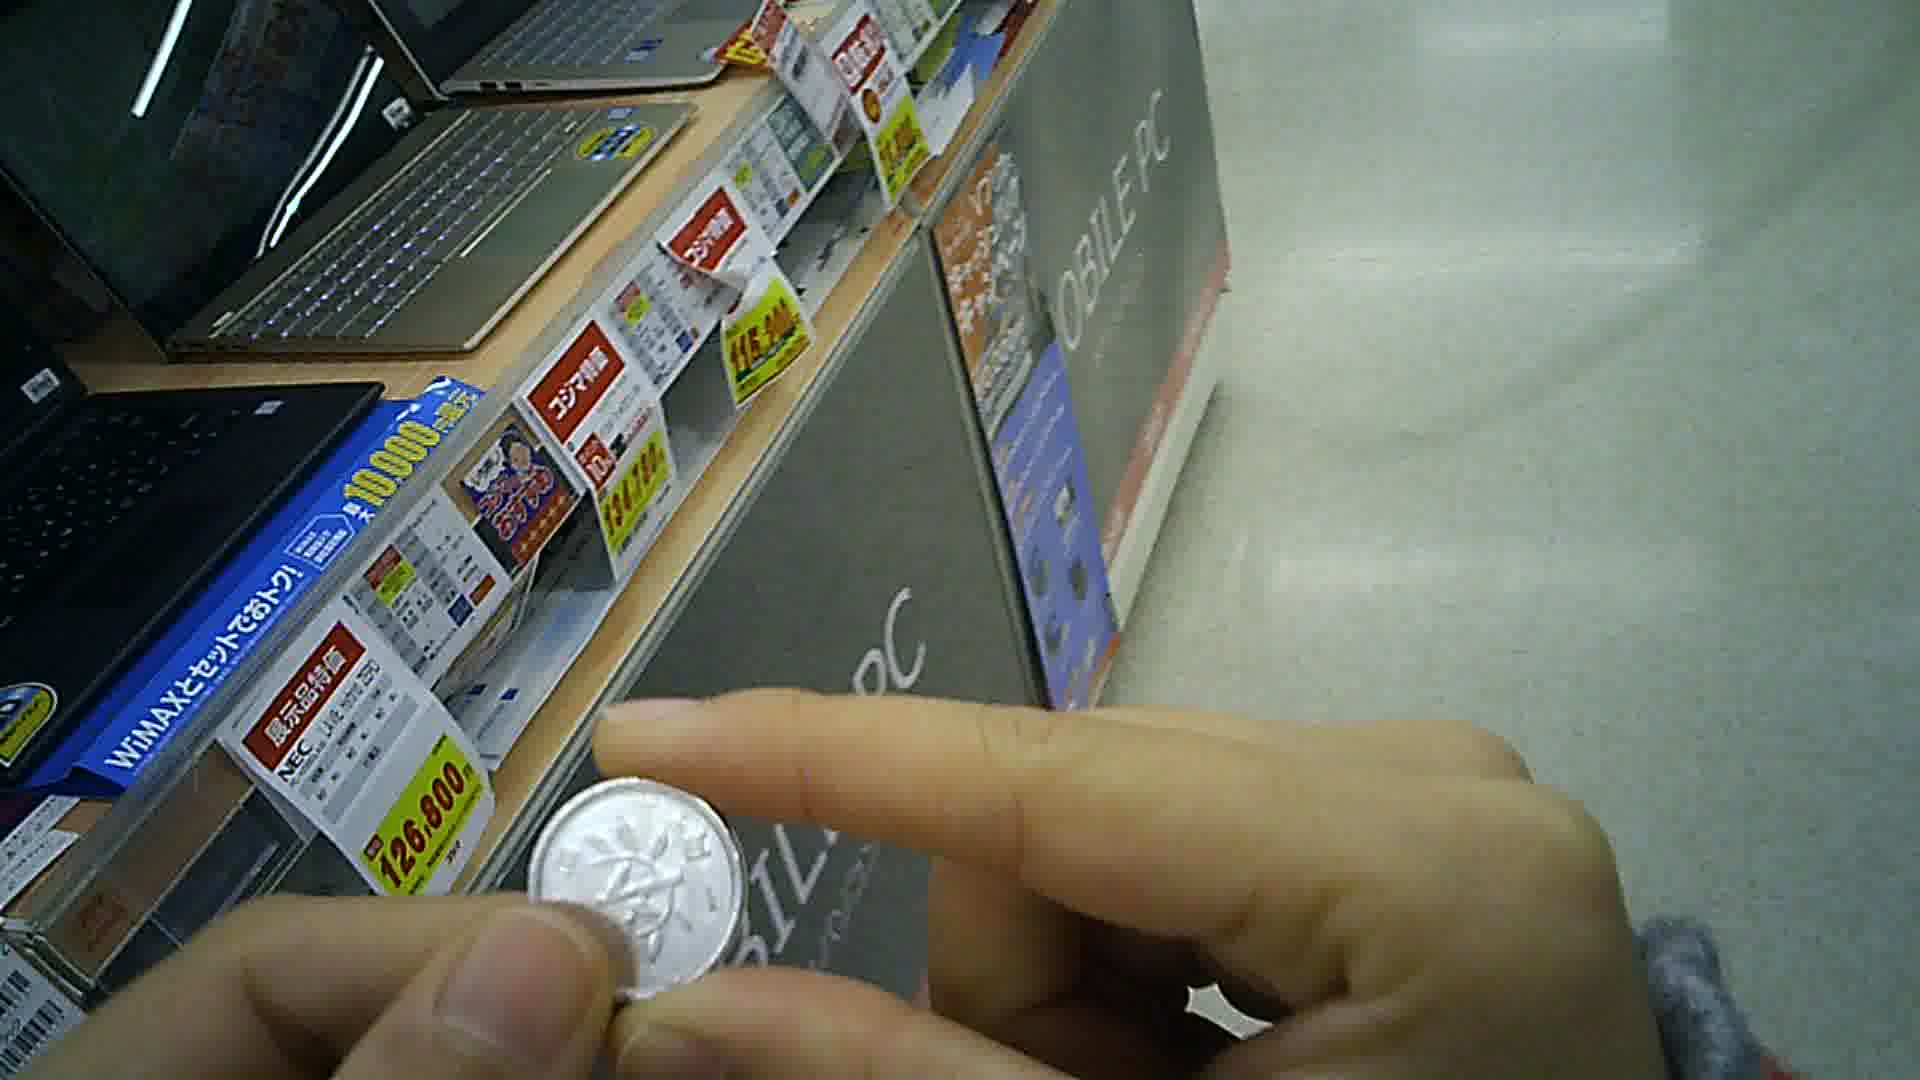1 Yen: (530, 785, 756, 1000)
